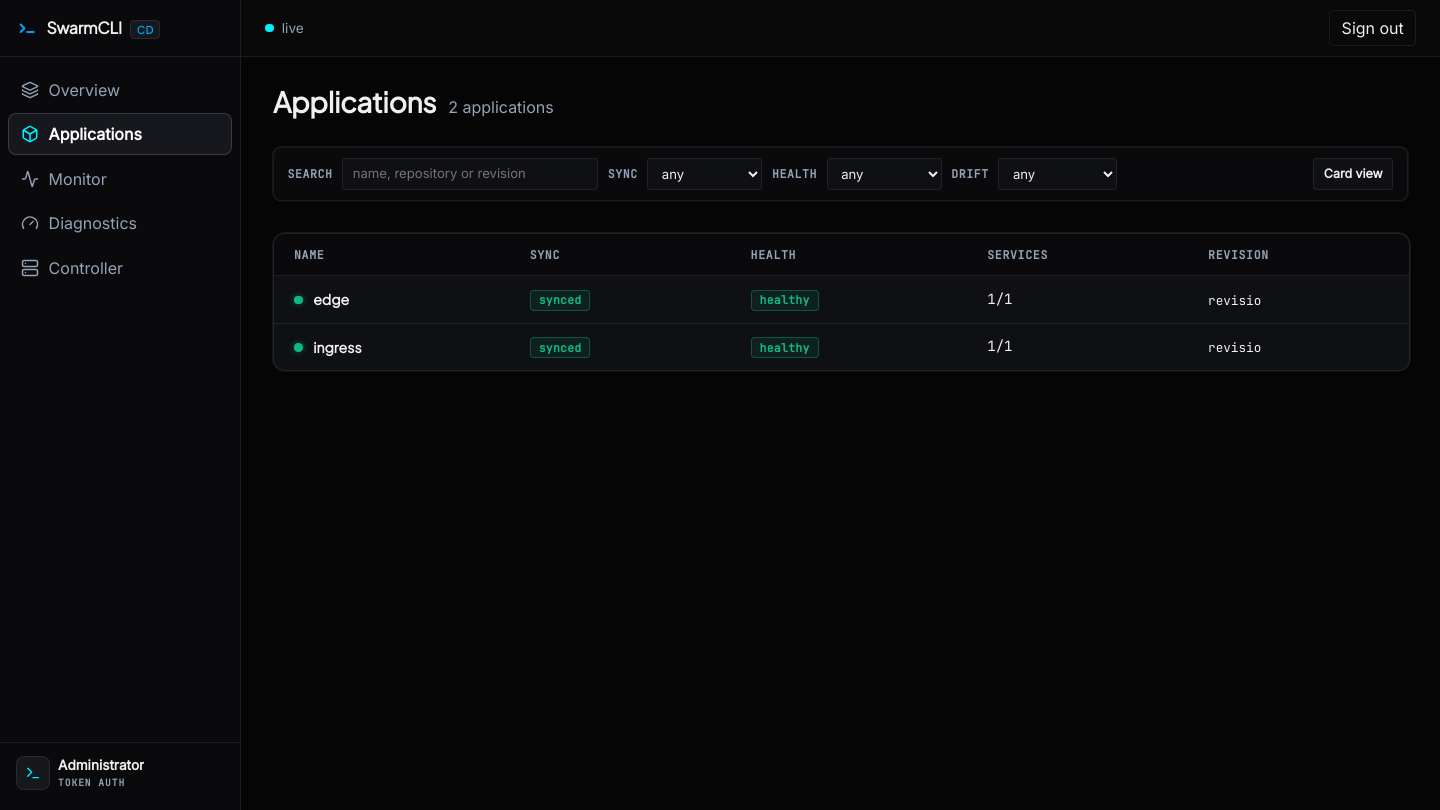
Test case: the fleet overview › reads all systems nominal when every application is synced and healthy
expect the text "2 applications" is shown: met, box [448, 95, 554, 119]
Click the link "Overview" at (71, 90), box [21, 80, 120, 100]
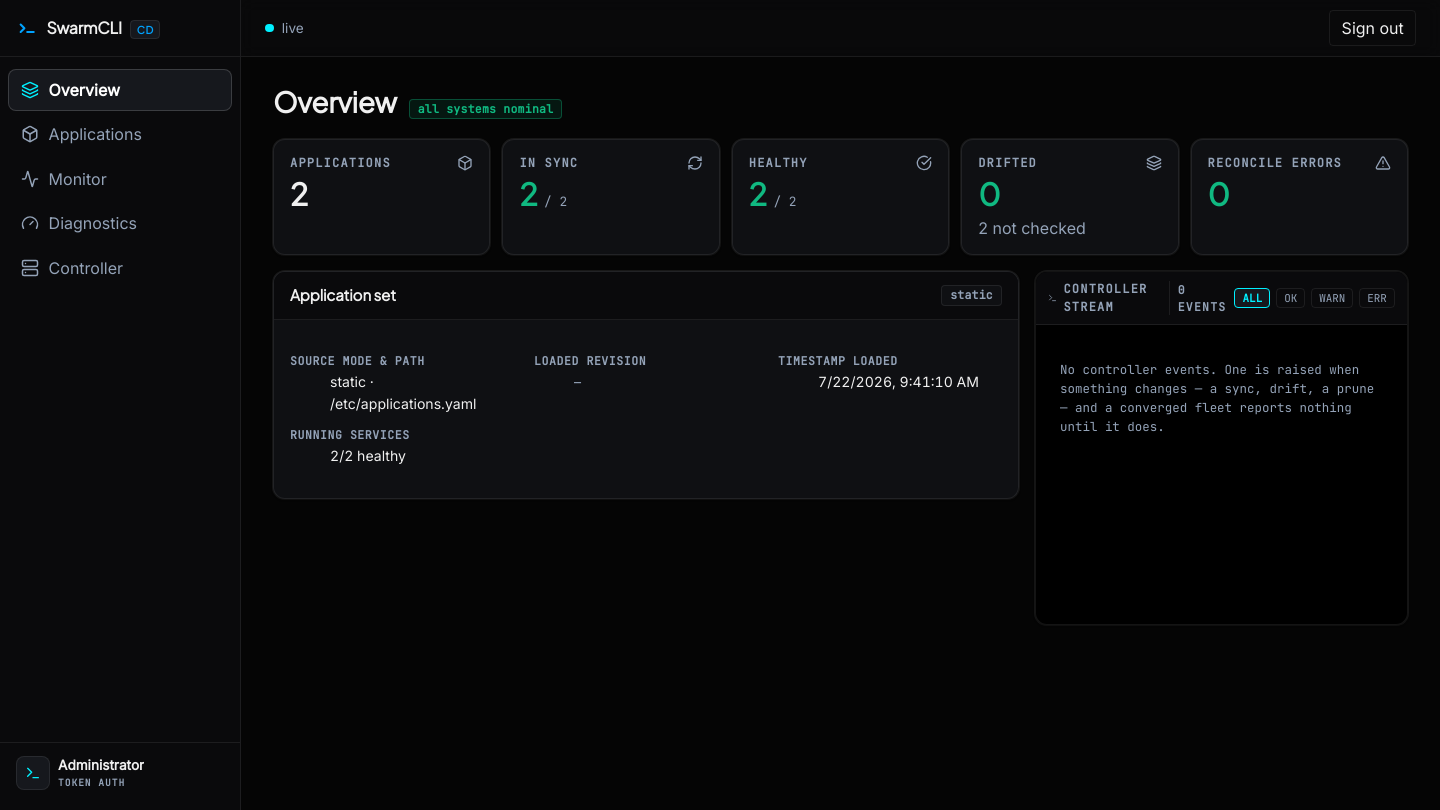
expect the heading "Overview" is shown: met, box [273, 81, 397, 123]
expect the text "all systems nominal" is shown: met, box [409, 99, 562, 119]
